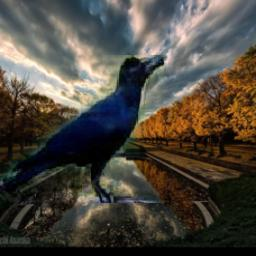Crow: (0, 56, 165, 204)
